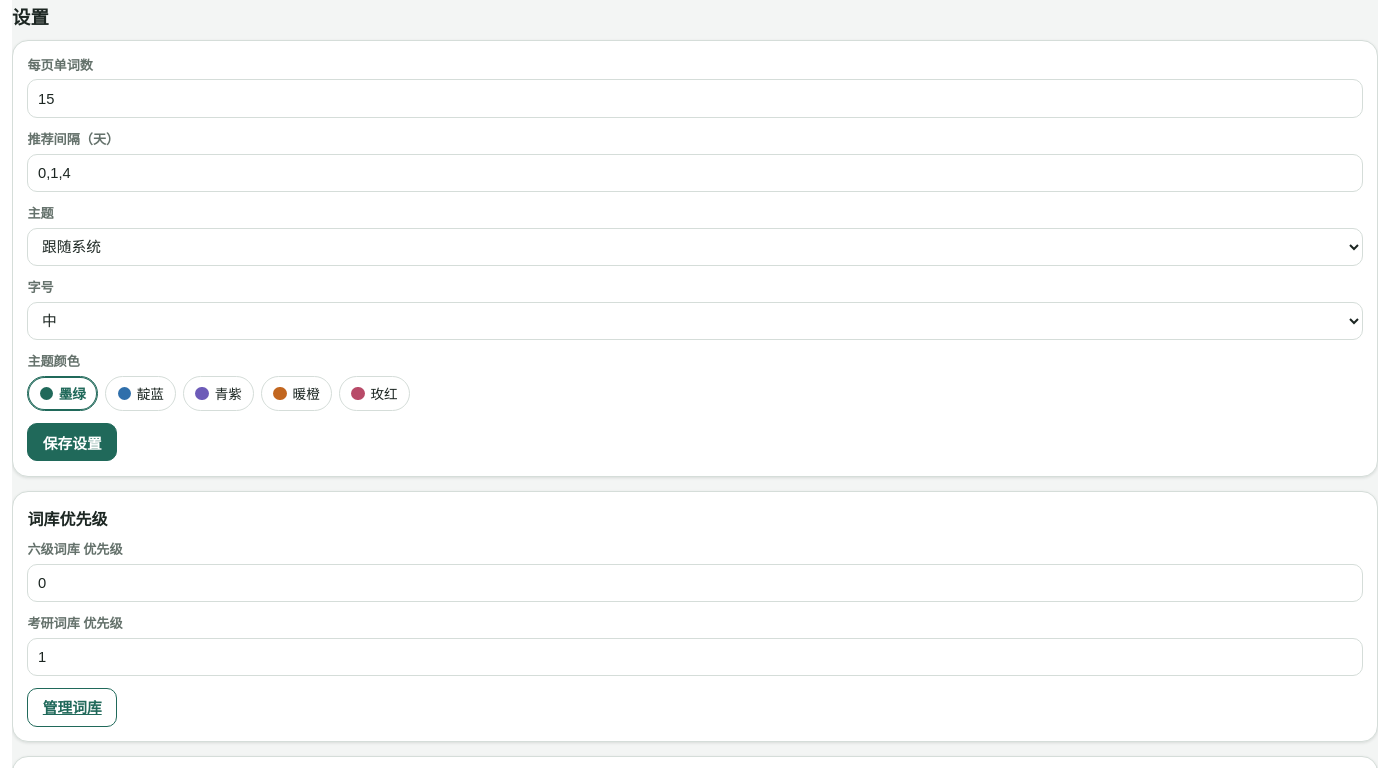
Test: 设置页 › 保存时提交完整设置并显示成功提示
This screenshot has width=1378, height=768.
Replace the text in the number field labelled "每页单词数" with "20" at (695, 99), box [27,80,1363,118]
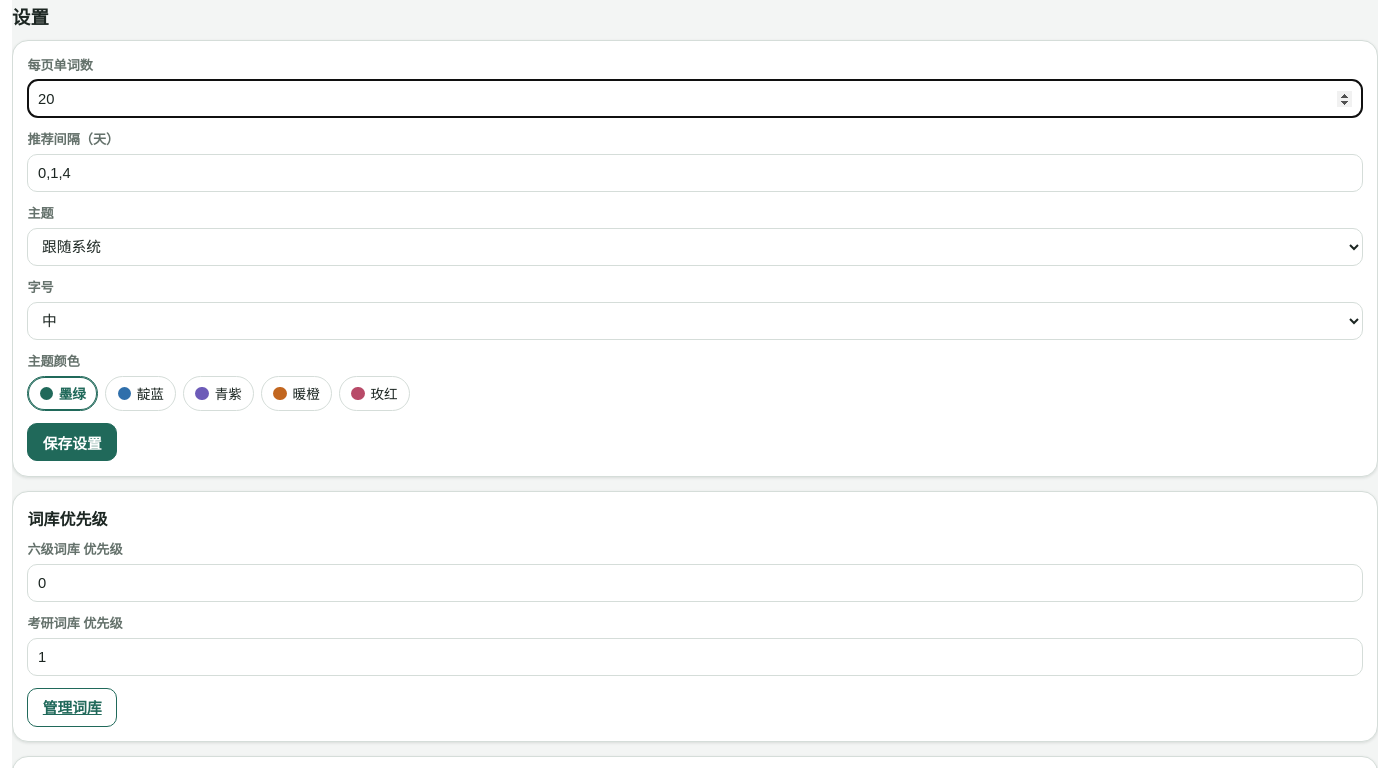
Click the button "保存设置".
click(72, 442)  # box [27,423,117,461]
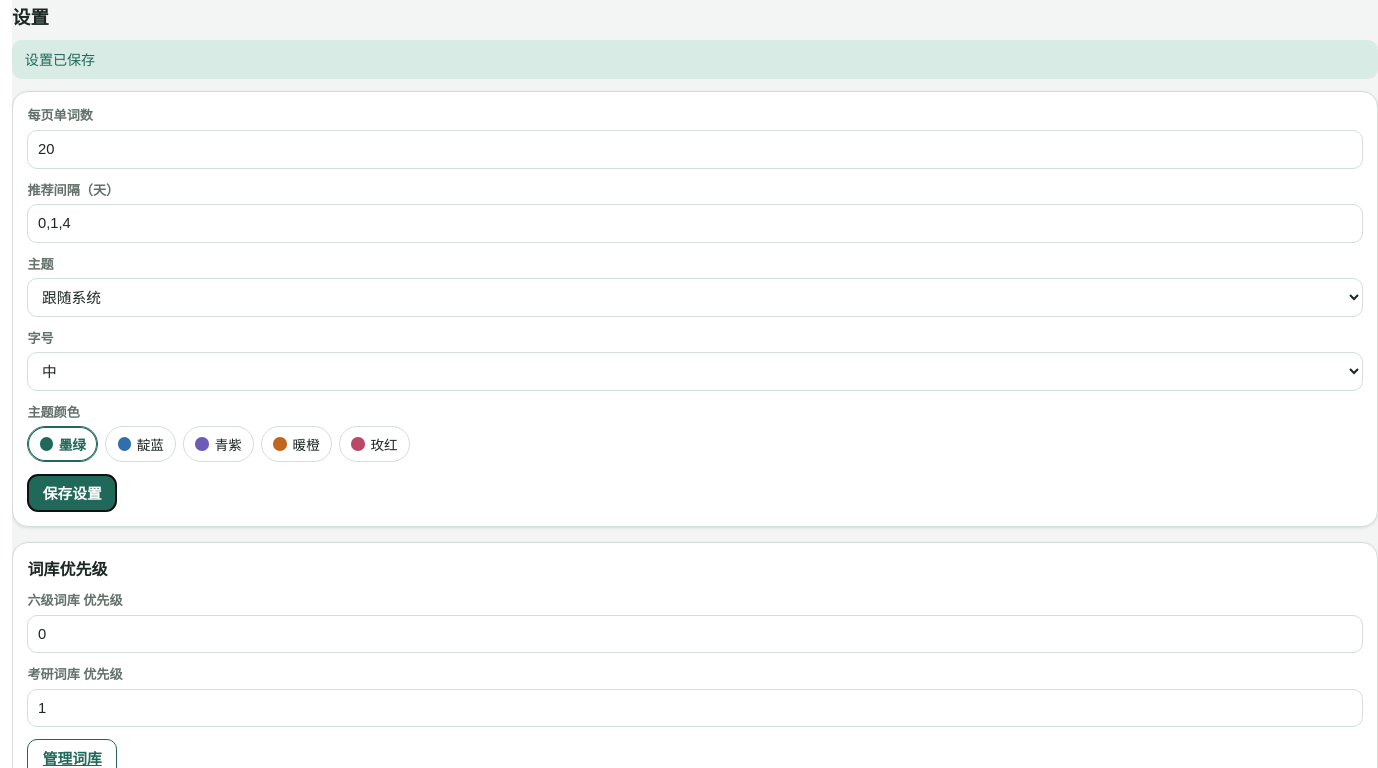
Now the text "设置已保存" is shown, box [12,40,1377,79]
